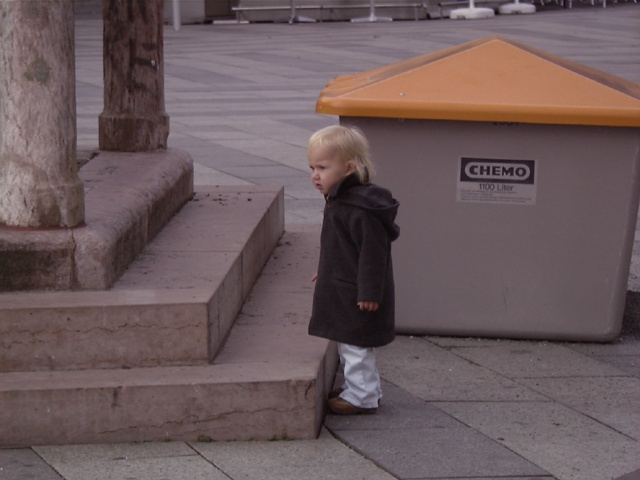person: (305, 127, 396, 411)
